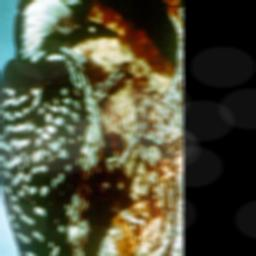Woodpecker: (0, 0, 171, 256)
